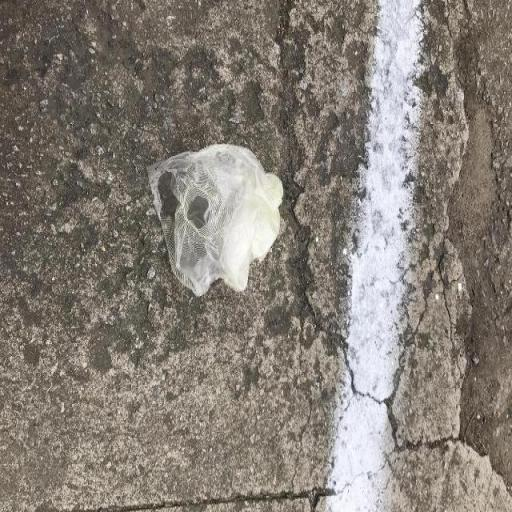plastic-bag: (146, 141, 286, 295)
